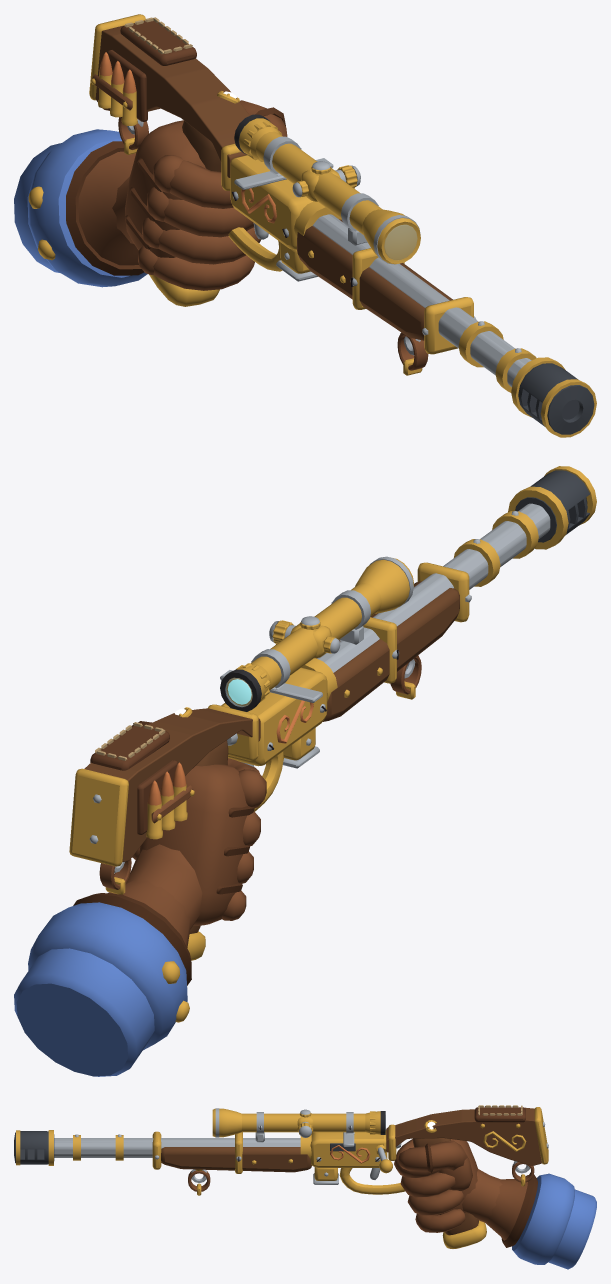
Rendered from vm_longshot.glb.
3 views of the same model, one above another, from view 1: azimuth 30°, elevation 25°; view 2: azimuth 150°, elevation 25°; view 3: azimuth 270°, elevation 25° (orthographic). The views are drawn at different scales.
Visible parts, largest first — view 1: Longshot, Glove; view 2: Longshot, Glove; view 3: Longshot, Glove.
Boxes of the visible parts, <box> form: Longshot: <box>89,14,596,437</box>; Glove: <box>14,100,287,290</box>; Longshot: <box>69,466,596,960</box>; Glove: <box>14,721,266,1076</box>; Longshot: <box>14,1105,548,1248</box>; Glove: <box>394,1139,596,1269</box>.
Bounding box in the file's own units: 0.1689 × 0.289 × 0.9539.
